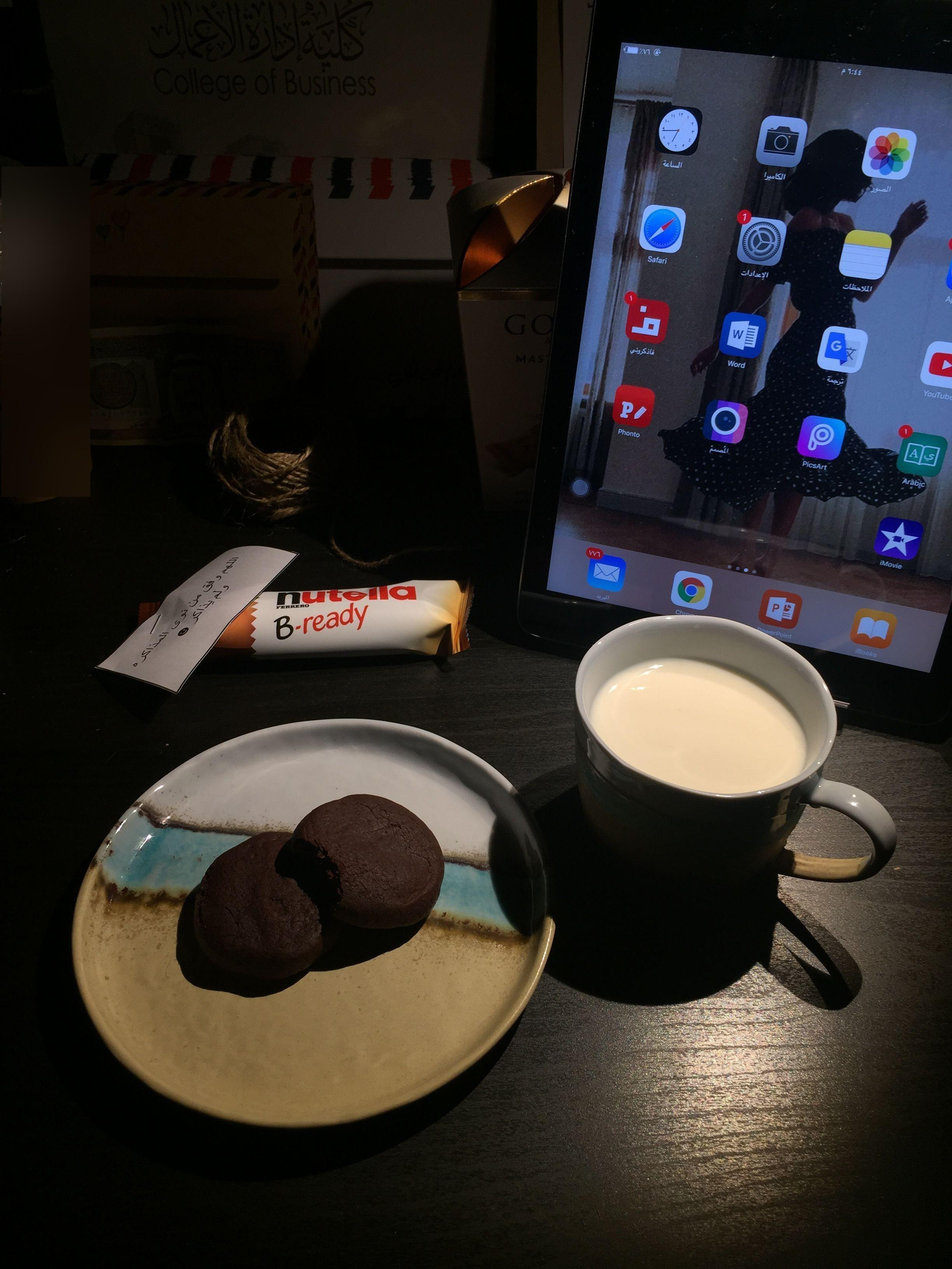cup-handle: (570, 612, 898, 905)
